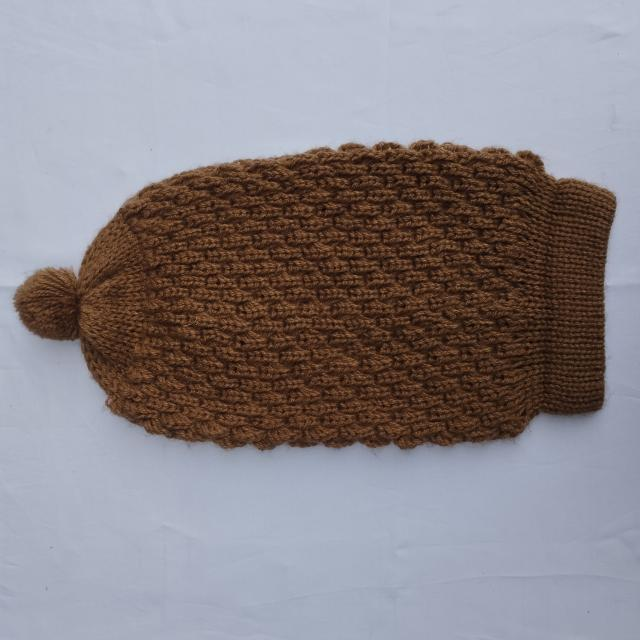Gorro: (12, 138, 618, 452)
